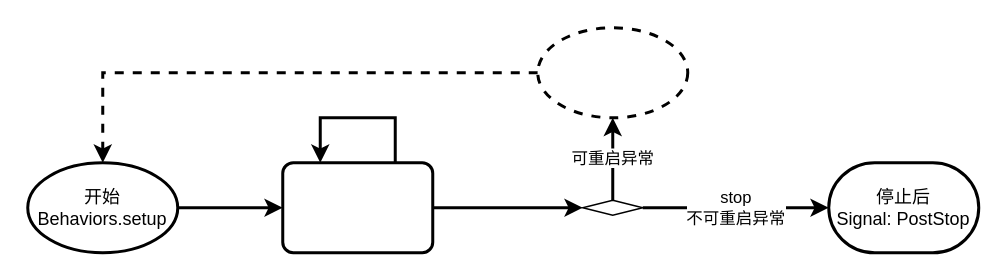
Image size: 1005x279. Some labels were removed from this diagram. The shapes that lost their labels are listed below. From the top down, each one's centre as x and y in pixels, then its label:
point 612,72: 重启前 Signal: PreRestart
point 357,207: 消息处理 Behavior
